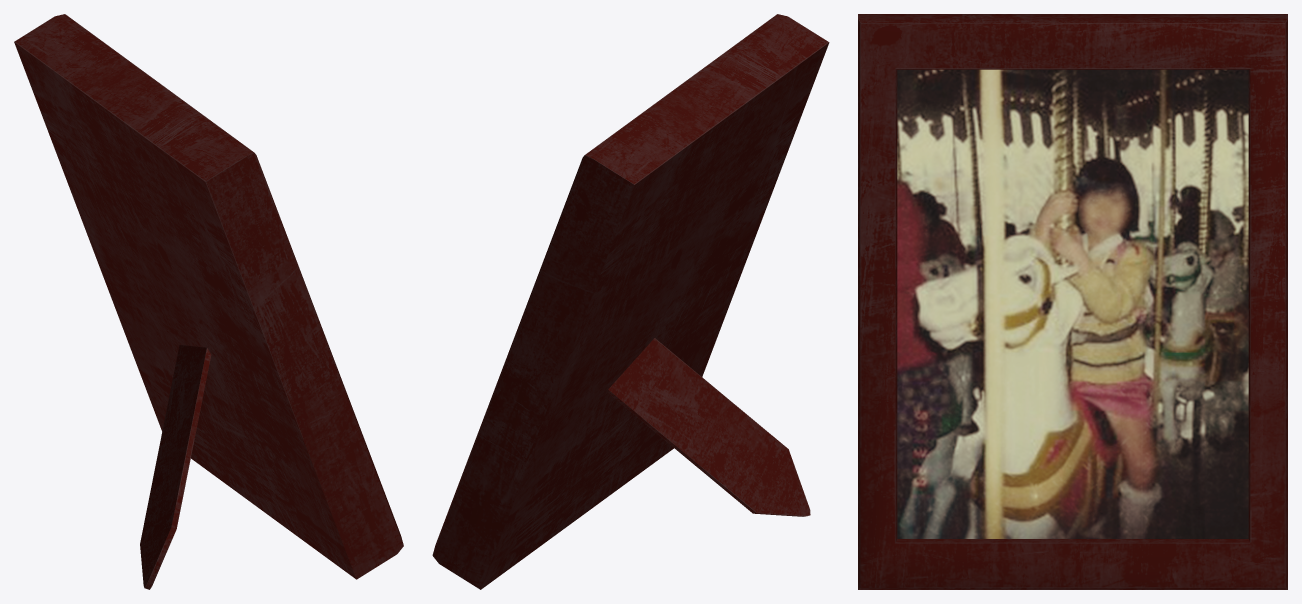
File: frame1_2_emmie carnival.FBX
The picture shows the model from 3 angles, left to right: view 1: azimuth 30°, elevation 25°; view 2: azimuth 150°, elevation 25°; view 3: azimuth 270°, elevation 25°; orthographic projection. The views are drawn at different scales.
Parts seen in each view (by area): view 1: frame004; view 2: frame004; view 3: frame004.
Part boxes in pixels (<box>): frame004: <box>14,14,403,589</box>; frame004: <box>432,14,829,589</box>; frame004: <box>858,14,1287,589</box>.
Bounding box in the file's own units: 9.58 × 18.69 × 14.37.
Materials: 1 (1 with a texture image).
